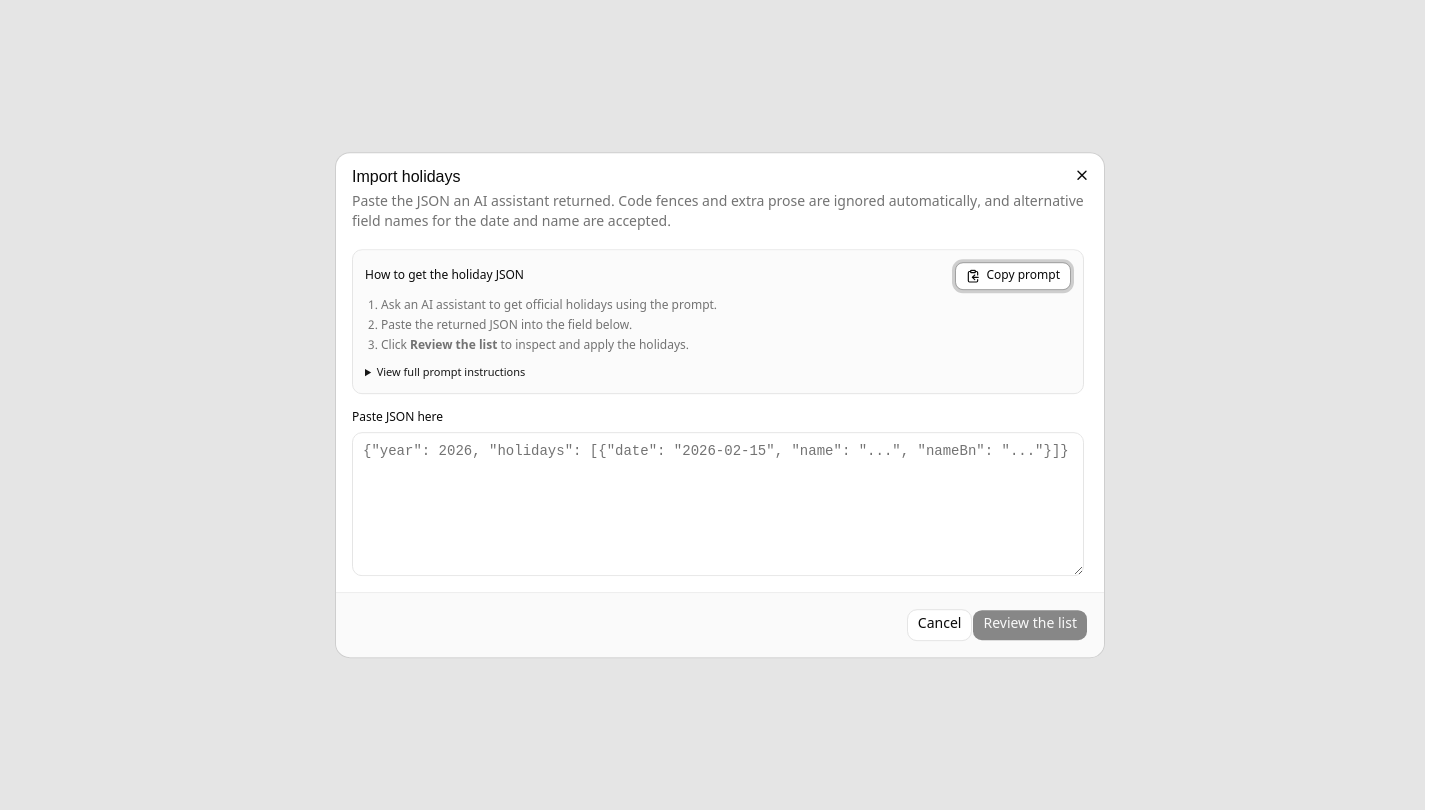
Test: HolidayImportDialog › shows error state when invalid JSON is reviewed and keeps apply disabled
This screenshot has width=1440, height=810.
Replace the text in the text box named "Holiday JSON to import" with "not valid json at all" at [718, 504], box [352,432,1084,576]
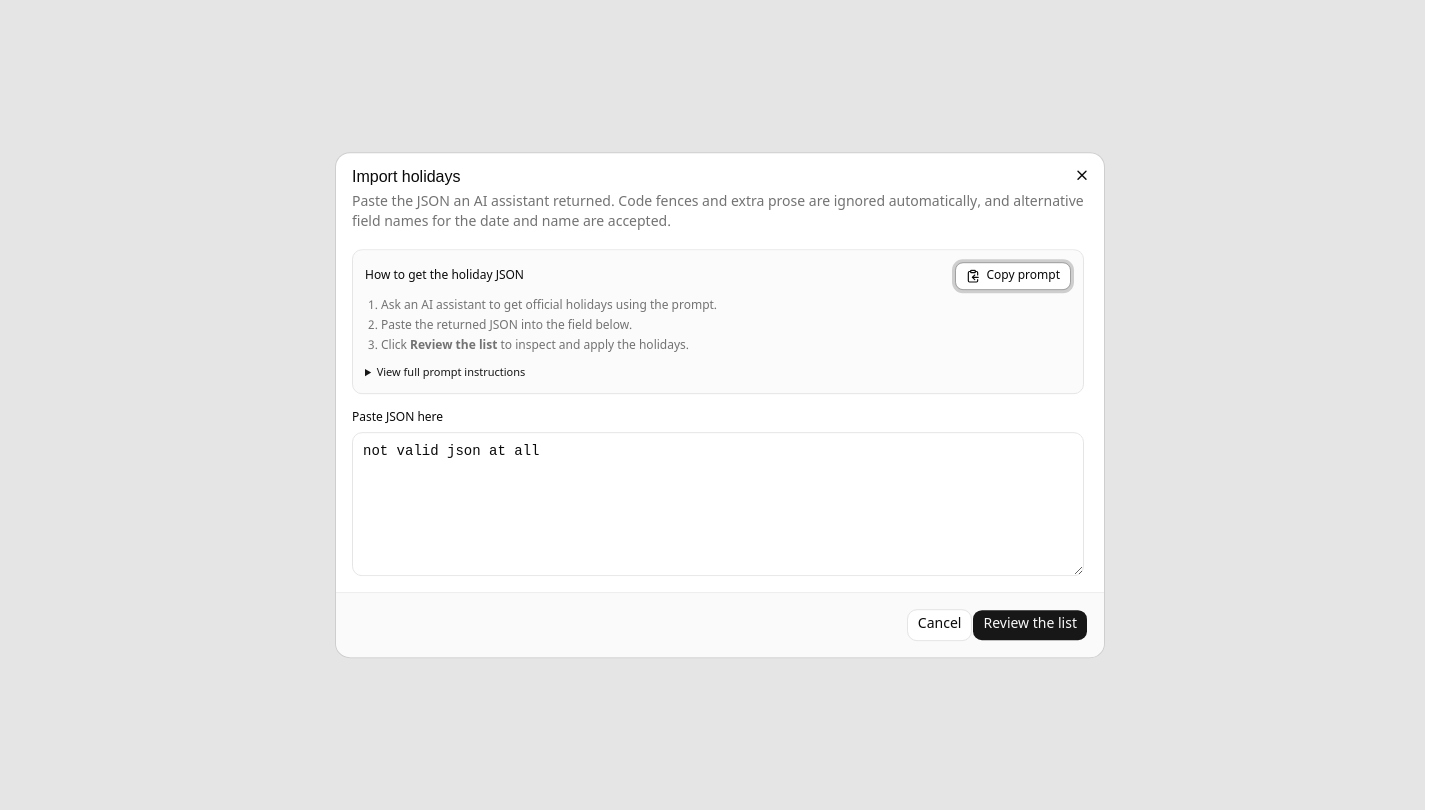
Click the button "Review the list" at [1030, 625], box [972,609,1088,641]
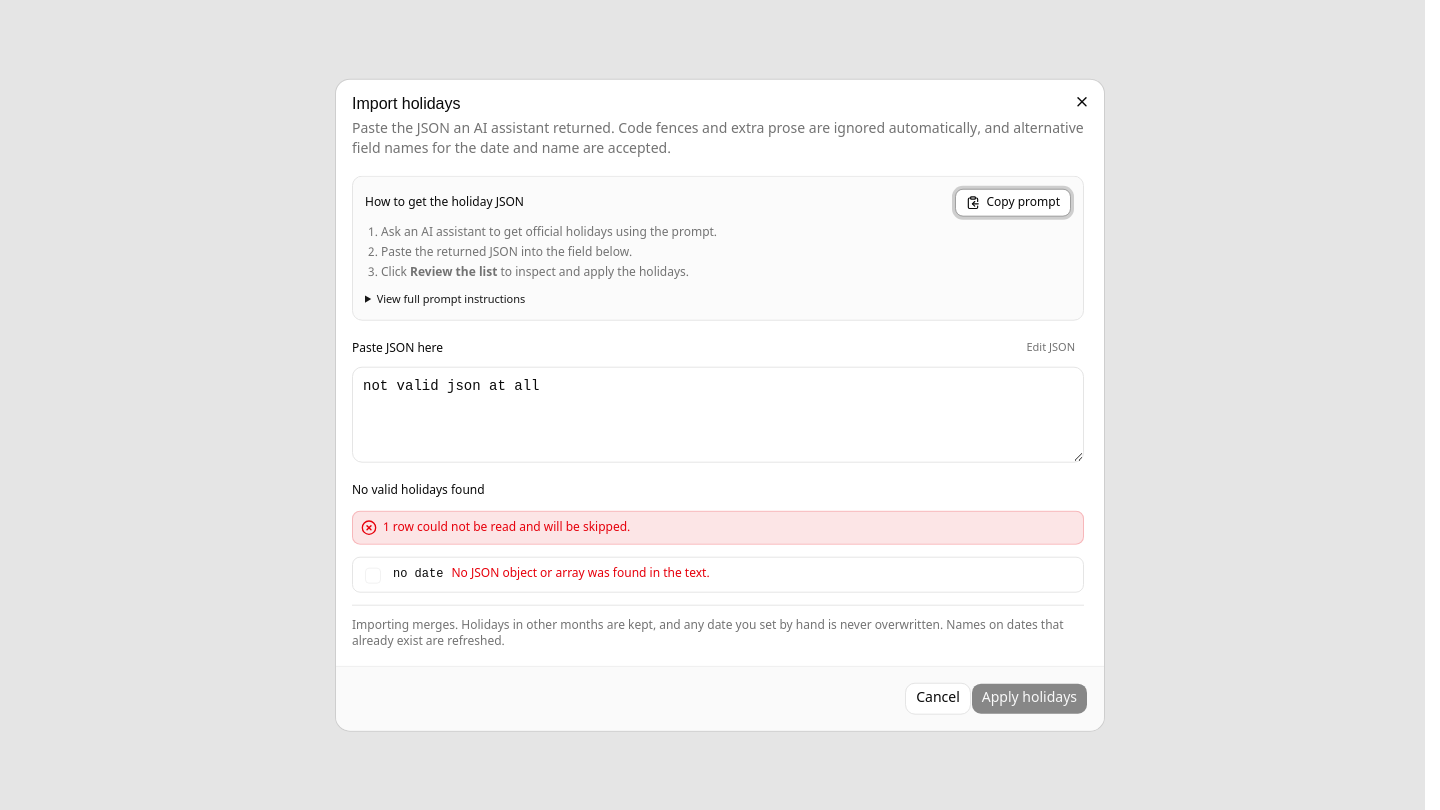
Result: the text "1 row could not be read and will be skipped." is shown at [383,519,630,535]
Result: the text "No valid holidays found" is shown at [352,482,485,498]
Result: the button "Apply holidays" is disabled at [971,682,1088,714]
